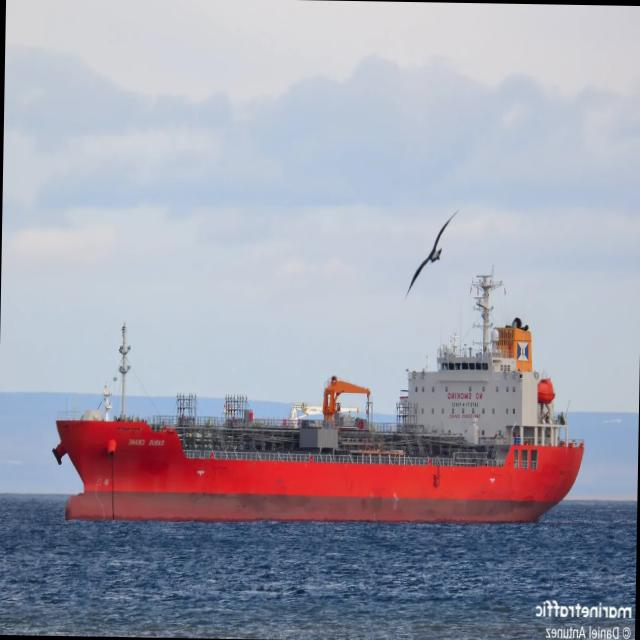Tanker: (53, 274, 583, 521)
